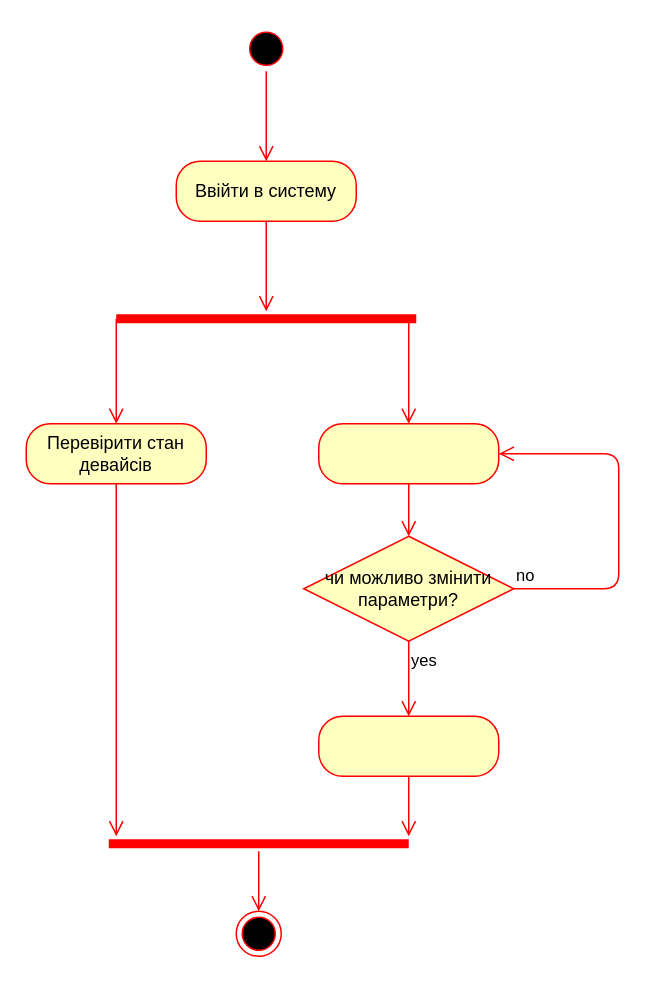
The diagram is 660 pixels wide and 983 high, and some of its shapes have lost their labels. The shapes that lost their labels are listed below. From the top down, each one's box as (x1, y1, x2, y2) in pixels, then its label:
(317, 422, 499, 484): Змінити параметри девайсу
(317, 715, 499, 776): Оновити параметри девайсу
